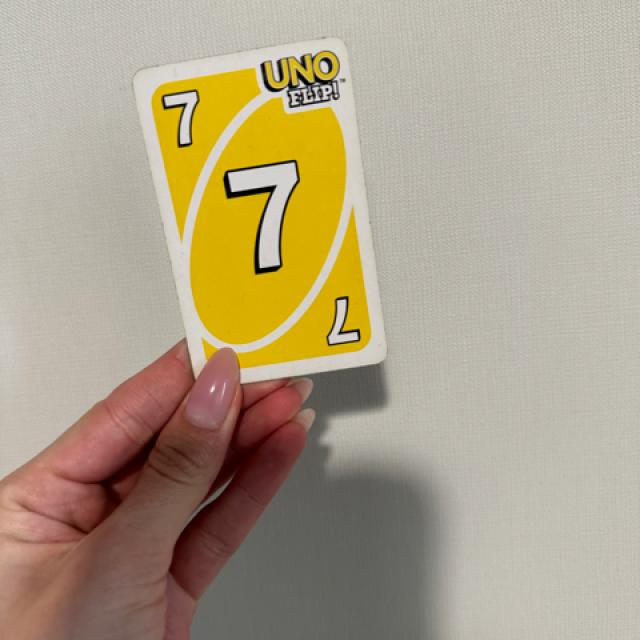lyellow-7: (152, 73, 225, 156)
